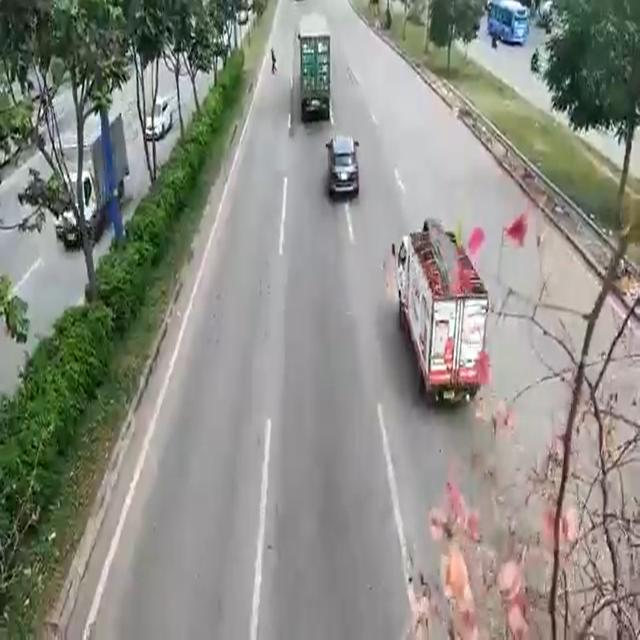car: (327, 137, 354, 200)
truck: (396, 222, 486, 410), (298, 18, 332, 118)
